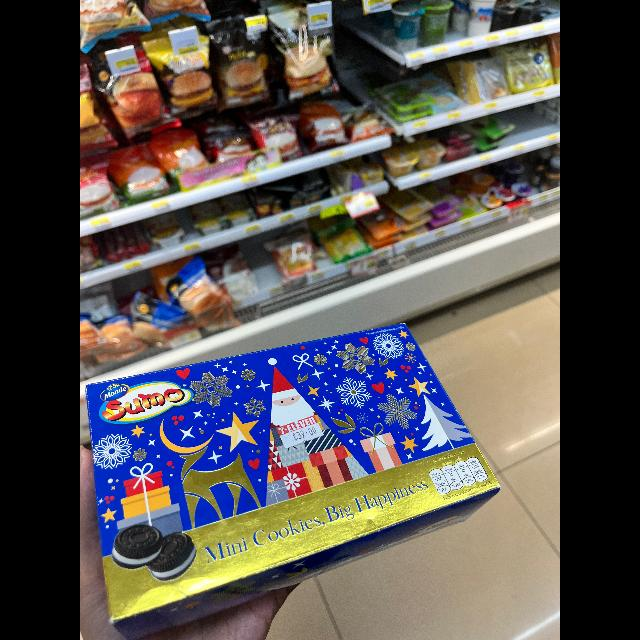cardboard_box: (87, 305, 507, 639)
